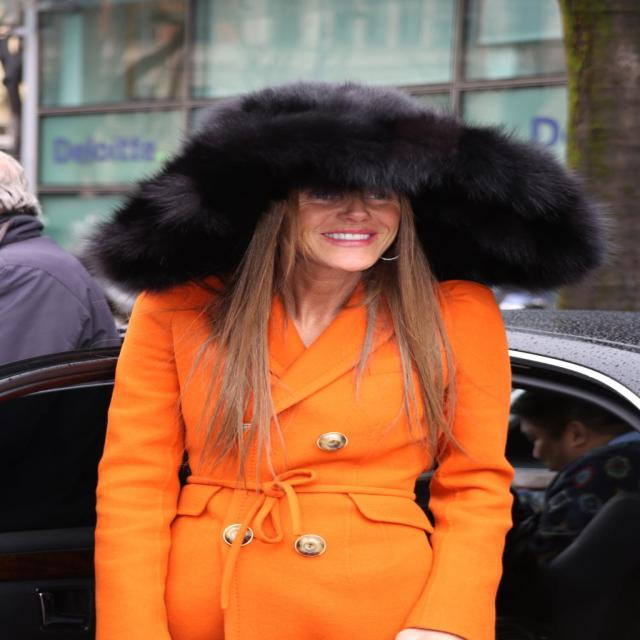Face: (268, 176, 415, 273)
